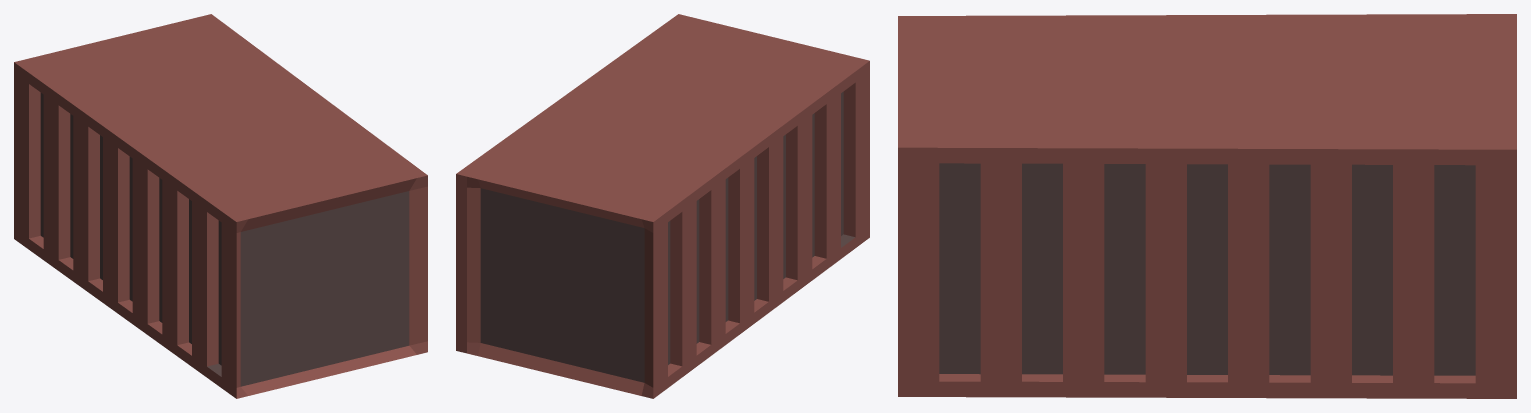
Rendered from SM_Prop_Container.fbx.
The picture shows the model from 3 angles, left to right: view 1: azimuth 30°, elevation 25°; view 2: azimuth 150°, elevation 25°; view 3: azimuth 270°, elevation 25°; orthographic projection. The views are drawn at different scales.
Parts seen in each view (by area): view 1: Cube; view 2: Cube; view 3: Cube.
Part boxes in pixels (x1,y1,x2,y2): Cube: (14, 14, 427, 398); Cube: (456, 14, 869, 398); Cube: (898, 14, 1516, 398).
Size of the model in its own units: 1125 by 500 by 584.
